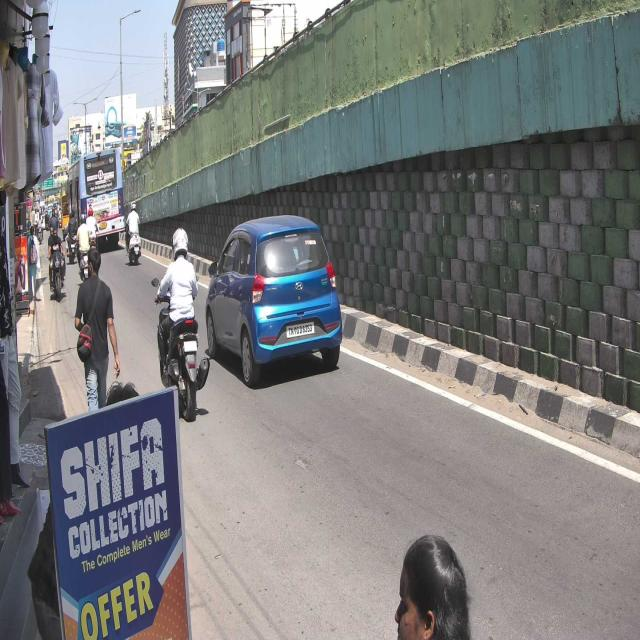single_rider: (151, 226, 211, 424)
